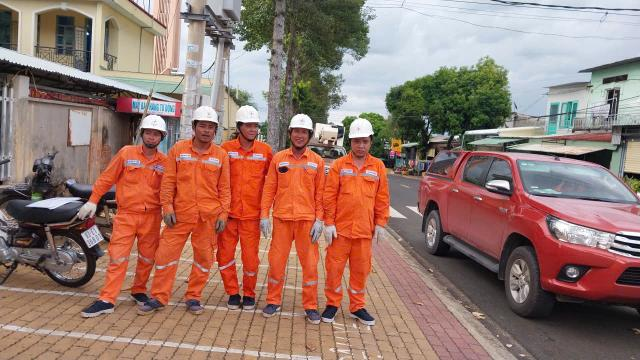gloves: (252, 209, 271, 240), (162, 204, 182, 231), (309, 206, 324, 241), (76, 200, 102, 219), (322, 223, 340, 250), (214, 210, 230, 239), (372, 219, 388, 245)
helmet: (342, 112, 378, 143), (135, 112, 173, 136), (282, 110, 316, 134), (233, 104, 264, 128), (186, 104, 223, 124)
shoes: (134, 293, 176, 316), (347, 304, 380, 330), (80, 296, 116, 319), (179, 290, 206, 318), (322, 302, 346, 329), (124, 286, 150, 304), (224, 289, 242, 315), (304, 302, 322, 328), (263, 298, 282, 320), (243, 293, 257, 314)
